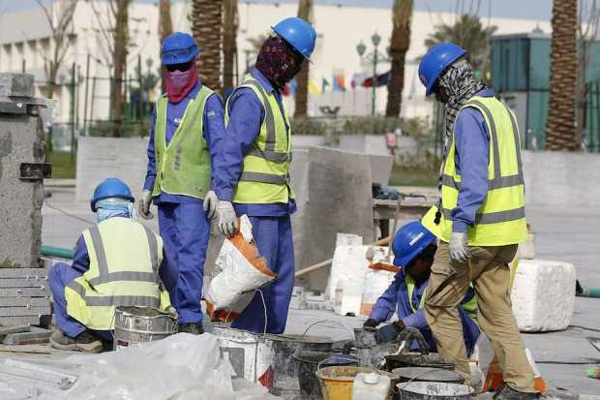blue: (265, 18, 316, 74), (420, 43, 467, 100), (394, 220, 431, 277), (161, 31, 197, 83), (91, 179, 135, 219)
